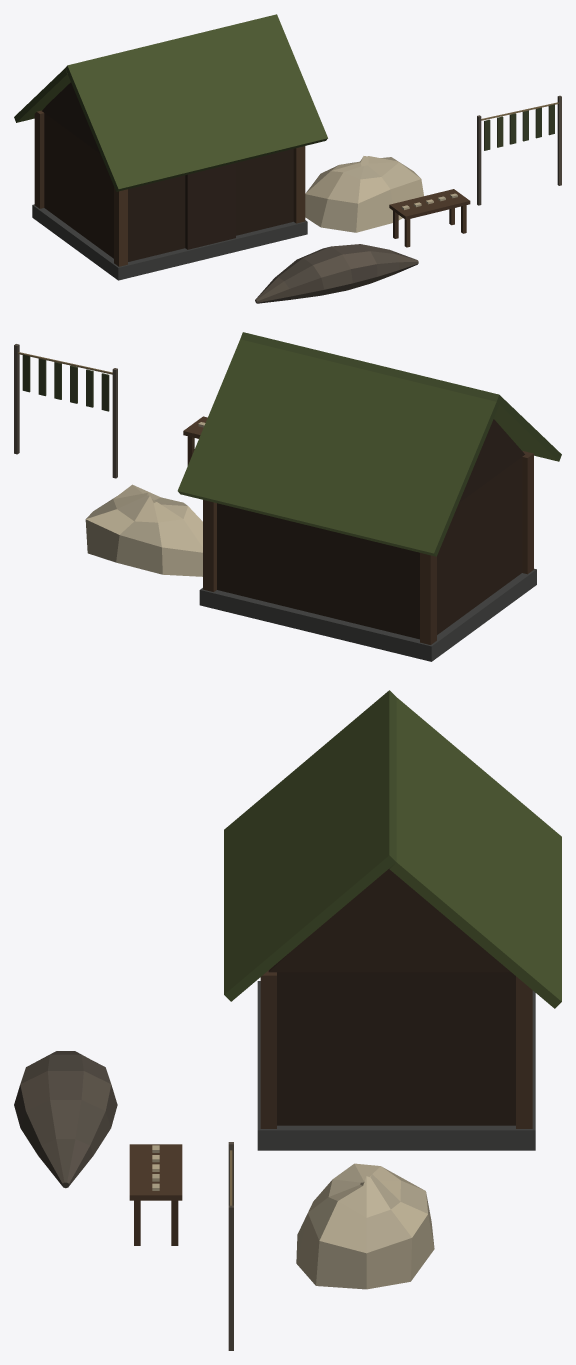
Rendered from walk_rime_pearls.glb.
The picture shows the model from 3 angles, top to bottom: view 1: azimuth 30°, elevation 25°; view 2: azimuth 150°, elevation 25°; view 3: azimuth 270°, elevation 25°; orthographic projection. The views are drawn at different scales.
Visible parts, largest first — view 1: walk_rime_pearls, walk_rime_pearls_roof; view 2: walk_rime_pearls, walk_rime_pearls_roof; view 3: walk_rime_pearls, walk_rime_pearls_roof.
Boxes of the visible parts, x1,y1,x2,y2 form: walk_rime_pearls: (32,82,561,303); walk_rime_pearls_roof: (14,14,327,191); walk_rime_pearls: (14,344,536,661); walk_rime_pearls_roof: (177,332,561,556); walk_rime_pearls: (14,869,535,1350); walk_rime_pearls_roof: (224,690,561,1008).
Size of what is drawn, in the model's own units: 11.04 by 4.98 by 7.29.
Materials: 1 (1 with a texture image).
